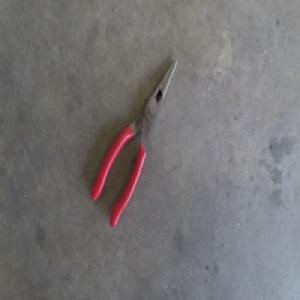Pliers: (91, 53, 179, 223)
